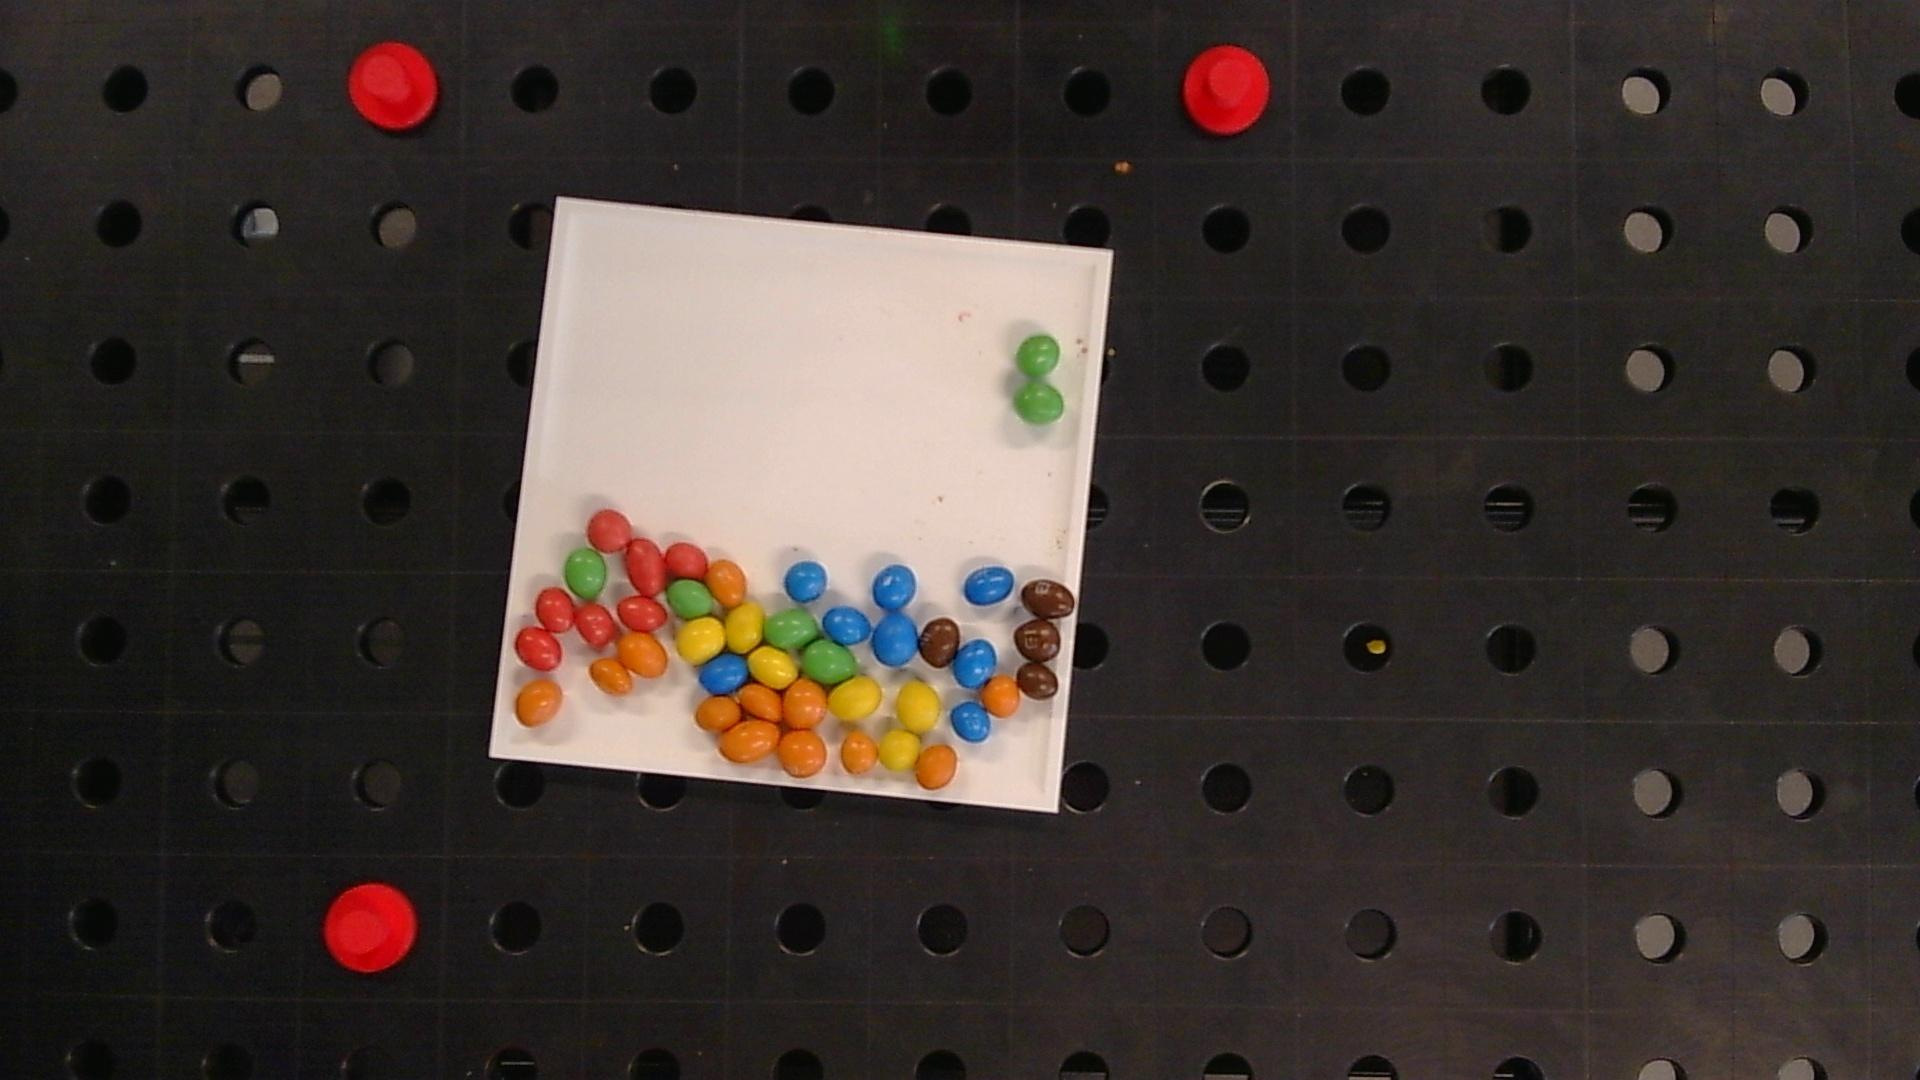blue: (872, 615, 919, 666), (953, 640, 997, 690), (873, 564, 916, 611), (964, 566, 1014, 605), (700, 654, 749, 694), (822, 607, 872, 645), (785, 560, 827, 603), (951, 702, 990, 741)
brown: (1022, 579, 1076, 618), (918, 617, 960, 666), (1014, 621, 1060, 662), (1015, 663, 1059, 699)
green: (802, 638, 856, 683), (764, 609, 819, 650), (564, 547, 607, 599), (1014, 382, 1065, 425), (1015, 335, 1060, 377), (669, 579, 713, 617)
orange: (719, 720, 781, 762), (778, 729, 827, 777), (617, 633, 667, 676), (516, 680, 563, 725), (783, 680, 825, 727), (914, 744, 957, 787), (707, 559, 746, 605), (696, 695, 740, 732), (840, 733, 878, 774), (589, 658, 632, 695), (982, 678, 1021, 717), (740, 684, 781, 720)
red: (626, 538, 666, 595), (514, 628, 562, 670), (587, 509, 632, 551), (572, 604, 615, 646), (618, 596, 666, 630), (535, 588, 574, 630), (666, 542, 708, 578)
yellow: (675, 616, 724, 663), (829, 678, 882, 721), (895, 682, 940, 732), (750, 647, 799, 686), (727, 603, 764, 651), (878, 729, 920, 769)
